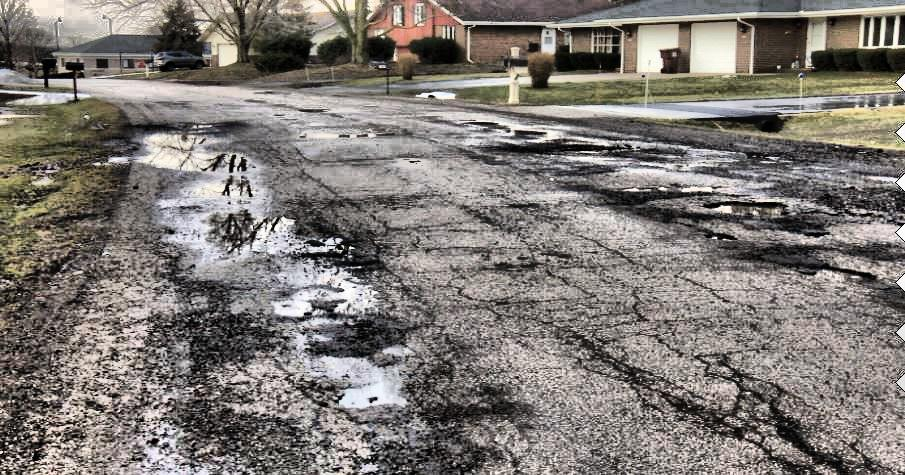pothole: (308, 347, 427, 411), (204, 211, 345, 262), (273, 283, 379, 342), (701, 199, 794, 221), (800, 263, 876, 289), (556, 141, 619, 160), (655, 181, 715, 193)
